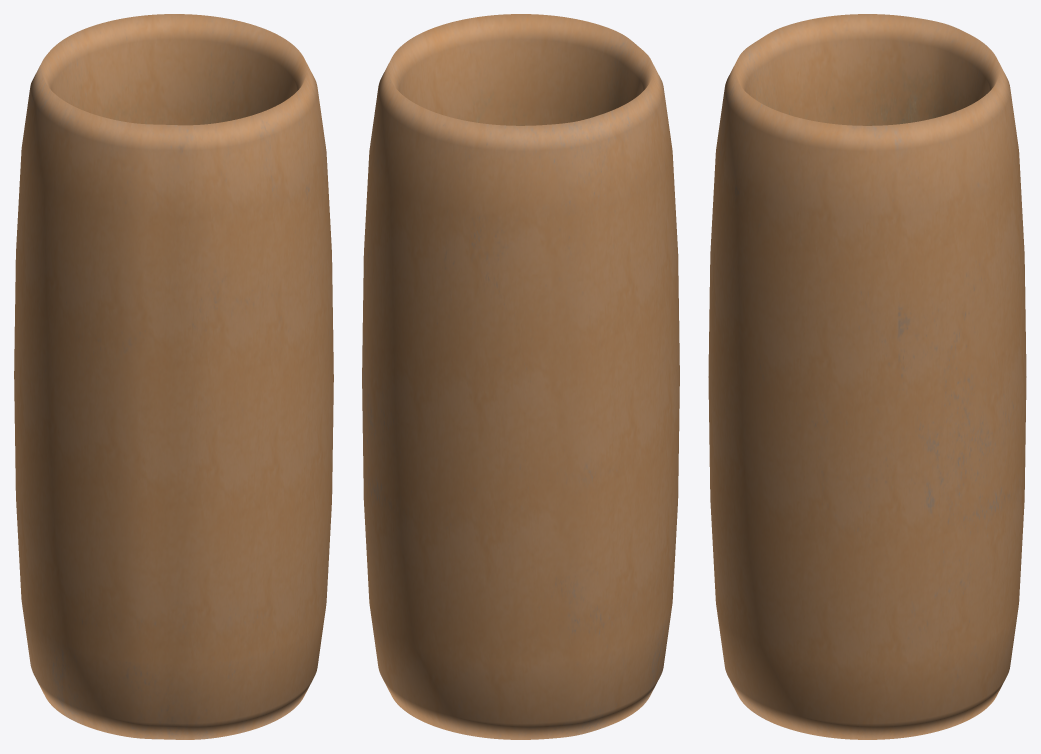
File: Tunnel.fbx
3 renders of one model, left to right at view 1: azimuth 30°, elevation 25°; view 2: azimuth 150°, elevation 25°; view 3: azimuth 270°, elevation 25°, orthographic.
Parts seen in each view (by area): view 1: BigTunnel.001; view 2: BigTunnel.001; view 3: BigTunnel.001.
Boxes of the visible parts, bbox=[...] form: BigTunnel.001: bbox=[14, 14, 333, 739]; BigTunnel.001: bbox=[362, 14, 679, 739]; BigTunnel.001: bbox=[708, 14, 1026, 739].
Bounding box in the file's own units: 935 × 1993 × 935.
